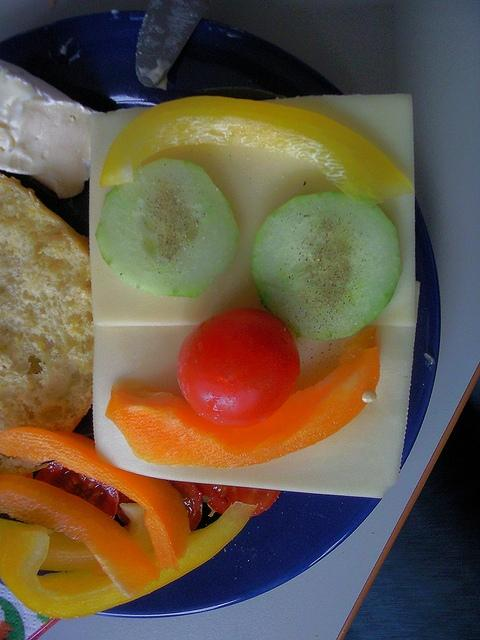bell pepper: (106, 326, 380, 468), (102, 95, 414, 204), (0, 502, 258, 620), (3, 426, 190, 572), (0, 474, 160, 598), (39, 532, 98, 572)
cucumber: (252, 190, 404, 340), (95, 158, 241, 298)
tomato: (179, 309, 300, 426), (33, 461, 120, 519), (194, 483, 282, 517), (167, 480, 204, 532)
